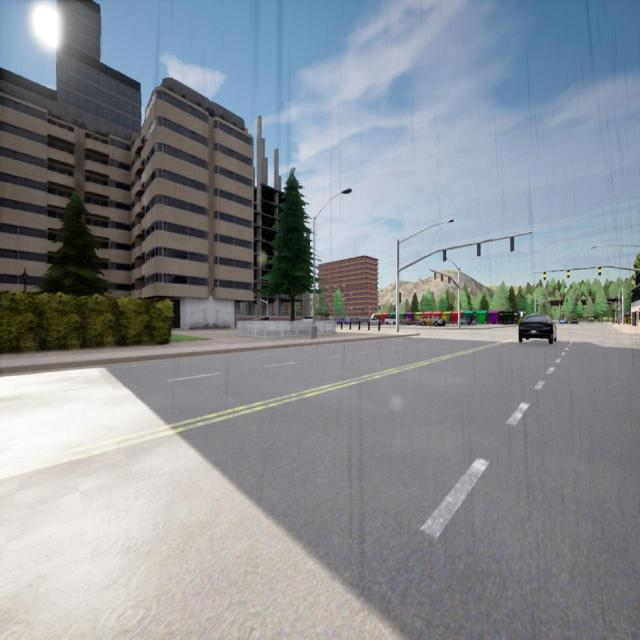Vehicle: (519, 315, 555, 342), (419, 316, 435, 326), (368, 314, 382, 325), (385, 315, 396, 325), (458, 318, 471, 325), (336, 318, 349, 325), (434, 319, 446, 326), (352, 317, 363, 324), (406, 319, 416, 325), (570, 318, 578, 324), (560, 320, 567, 324), (589, 318, 594, 323)
traffic_light: (510, 237, 514, 251), (477, 244, 481, 256), (443, 250, 446, 260), (543, 272, 546, 280), (598, 268, 601, 276), (448, 276, 451, 283), (567, 270, 569, 277), (434, 272, 436, 279), (441, 274, 443, 281), (586, 301, 588, 304), (598, 302, 599, 305), (577, 302, 578, 304)
